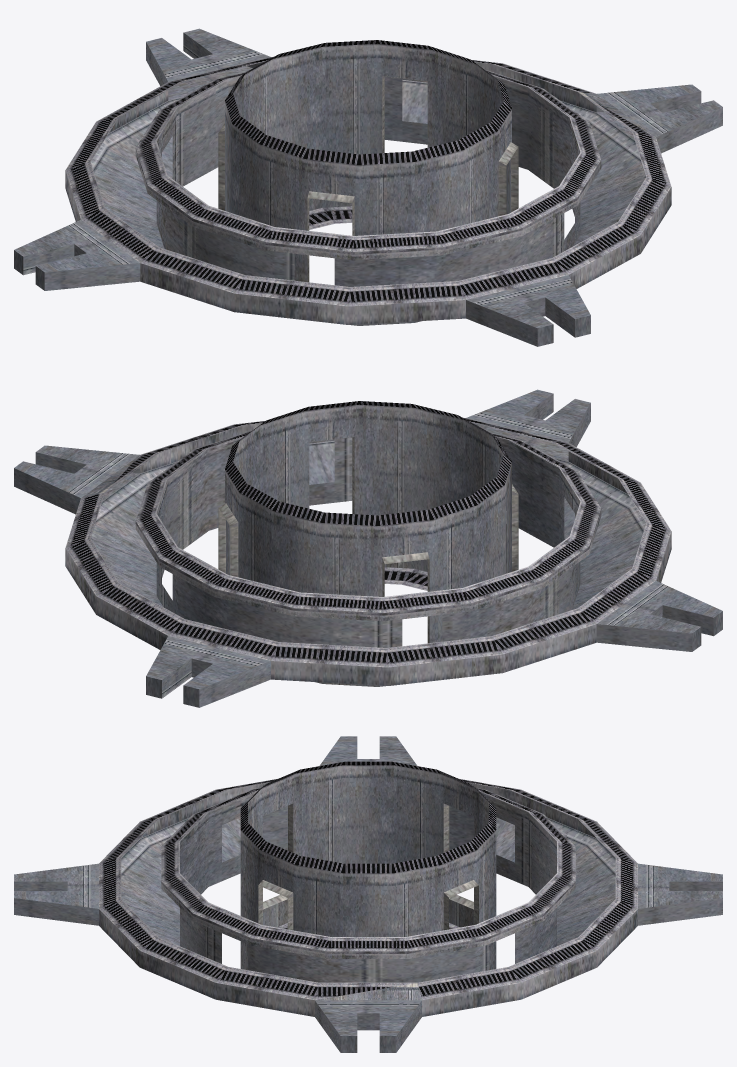
File: ship_component_droidinterface_s02_l0.fbx
3 renders of one model, top to bottom at view 1: azimuth 30°, elevation 25°; view 2: azimuth 150°, elevation 25°; view 3: azimuth 270°, elevation 25°, orthographic. The views are drawn at different scales.
Visible parts, largest first — view 1: mesh_node; view 2: mesh_node; view 3: mesh_node.
Boxes of the visible parts, x1,y1,x2,y2 form: mesh_node: [14, 28, 722, 346]; mesh_node: [14, 389, 722, 707]; mesh_node: [14, 736, 722, 1052].
Size of the model in its own units: 0.4898 by 0.1434 by 0.4898.
